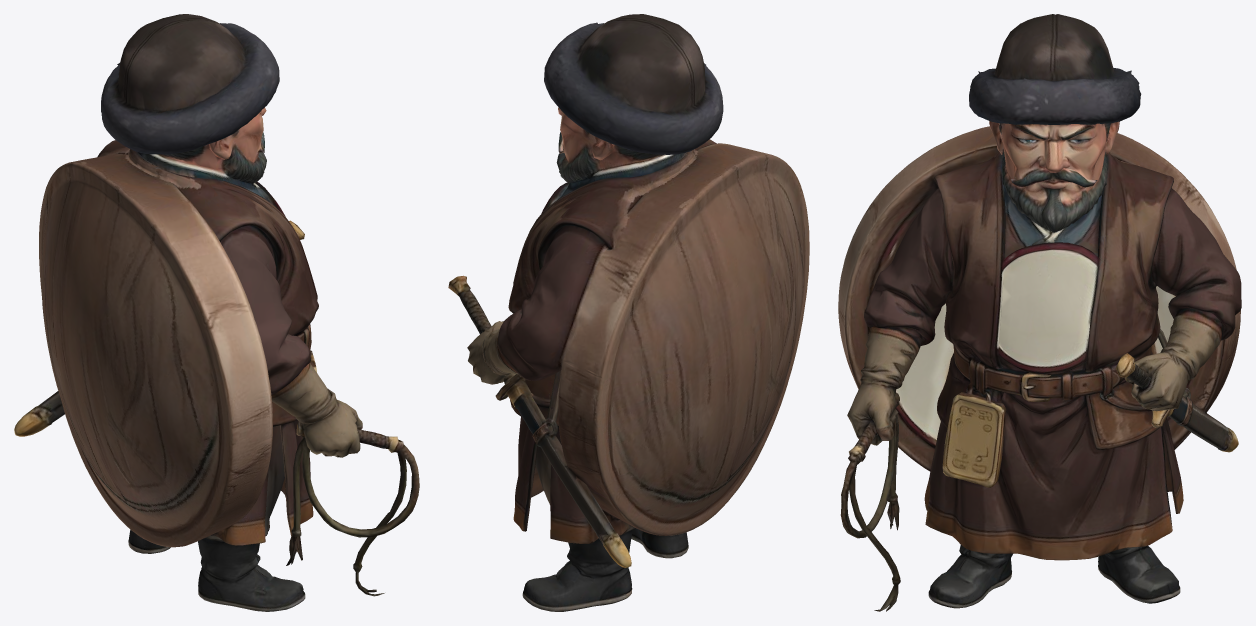
Rendered from p_b1p_bateer.glb.
3 views of the same model, side by side, from view 1: azimuth 30°, elevation 25°; view 2: azimuth 150°, elevation 25°; view 3: azimuth 270°, elevation 25° (orthographic).
Parts seen in each view (by area): view 1: tripo_node_eaa3e9e3-3276-487a-aa87-82e69811db15; view 2: tripo_node_eaa3e9e3-3276-487a-aa87-82e69811db15; view 3: tripo_node_eaa3e9e3-3276-487a-aa87-82e69811db15.
Part boxes in pixels (<box>): tripo_node_eaa3e9e3-3276-487a-aa87-82e69811db15: <box>14,14,419,611</box>; tripo_node_eaa3e9e3-3276-487a-aa87-82e69811db15: <box>448,14,809,611</box>; tripo_node_eaa3e9e3-3276-487a-aa87-82e69811db15: <box>838,14,1241,611</box>.
Size of the model in its own units: 0.4861 by 0.9797 by 0.6429.
1 material, 1 textured.
